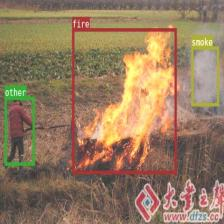fire: (72, 28, 176, 174)
smoke: (191, 46, 219, 106)
